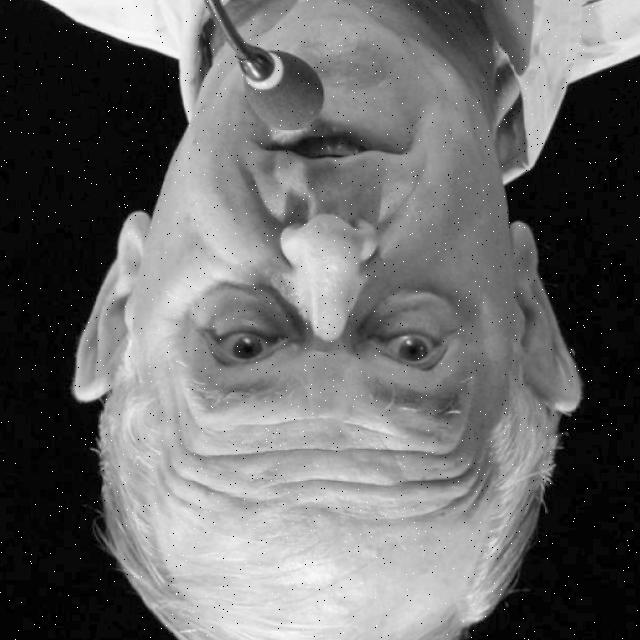puffy_eyes: (180, 284, 277, 323), (379, 295, 467, 319)
